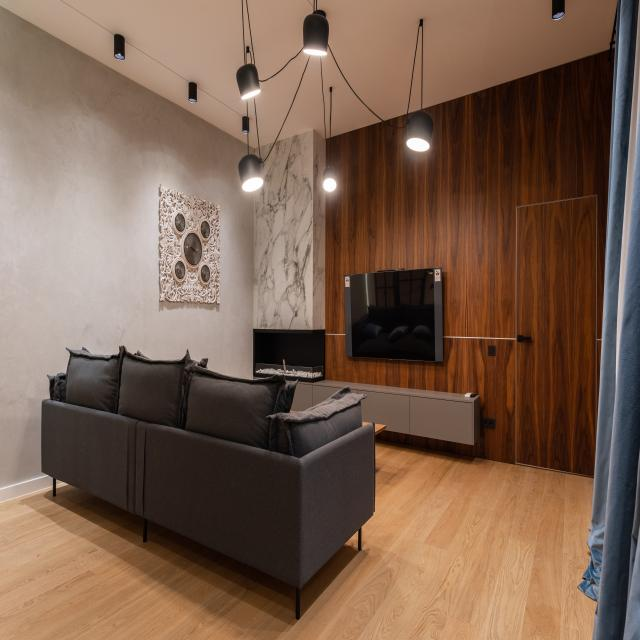floor: (0, 438, 597, 640)
wall: (0, 5, 254, 503), (325, 47, 615, 430), (325, 335, 516, 465), (253, 129, 313, 330), (159, 184, 221, 304), (313, 129, 326, 330), (259, 142, 275, 162), (326, 138, 330, 167), (254, 147, 260, 158), (249, 145, 254, 154)
